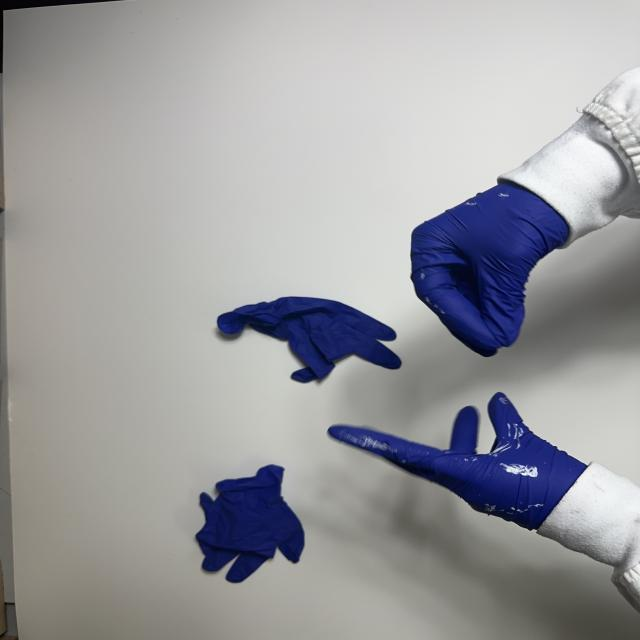gloves_contaminated: (328, 393, 586, 530), (411, 183, 568, 357)
